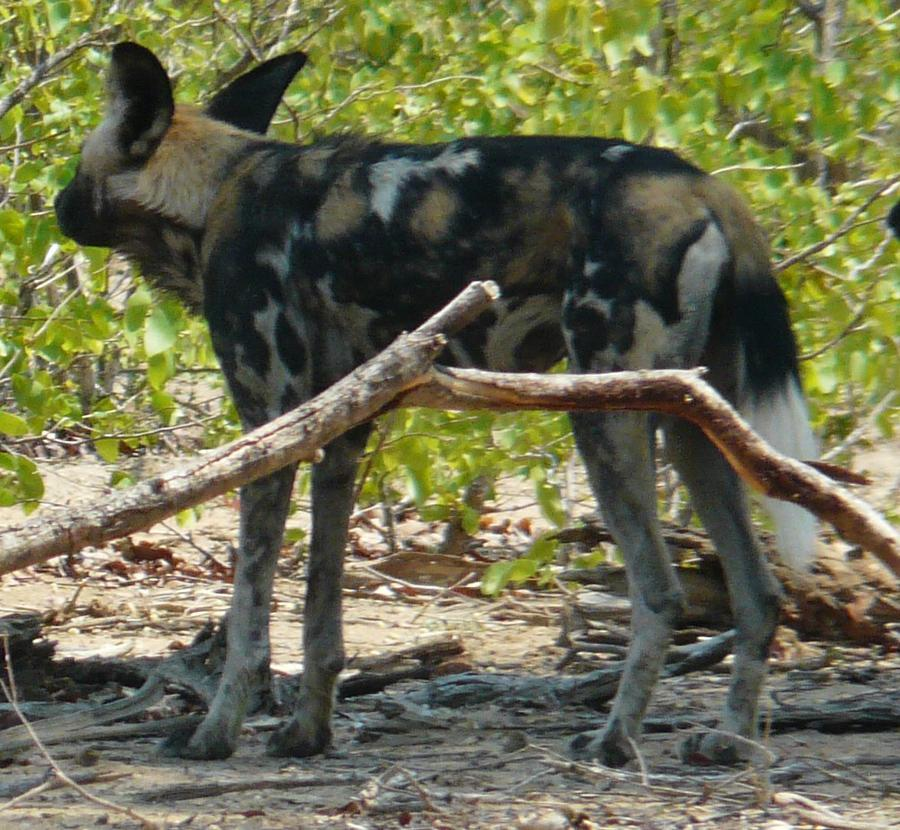wilddog: (77, 43, 829, 693)
